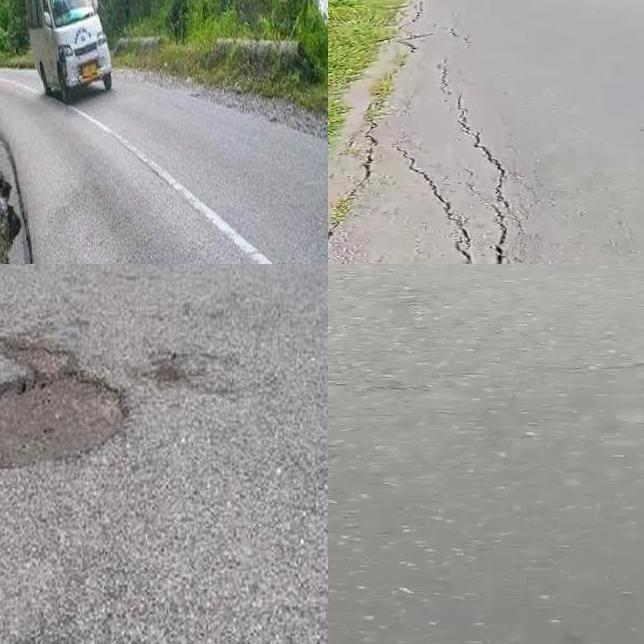Lubang: (0, 375, 131, 471)
Memanjang: (452, 75, 528, 264), (393, 144, 481, 264)
